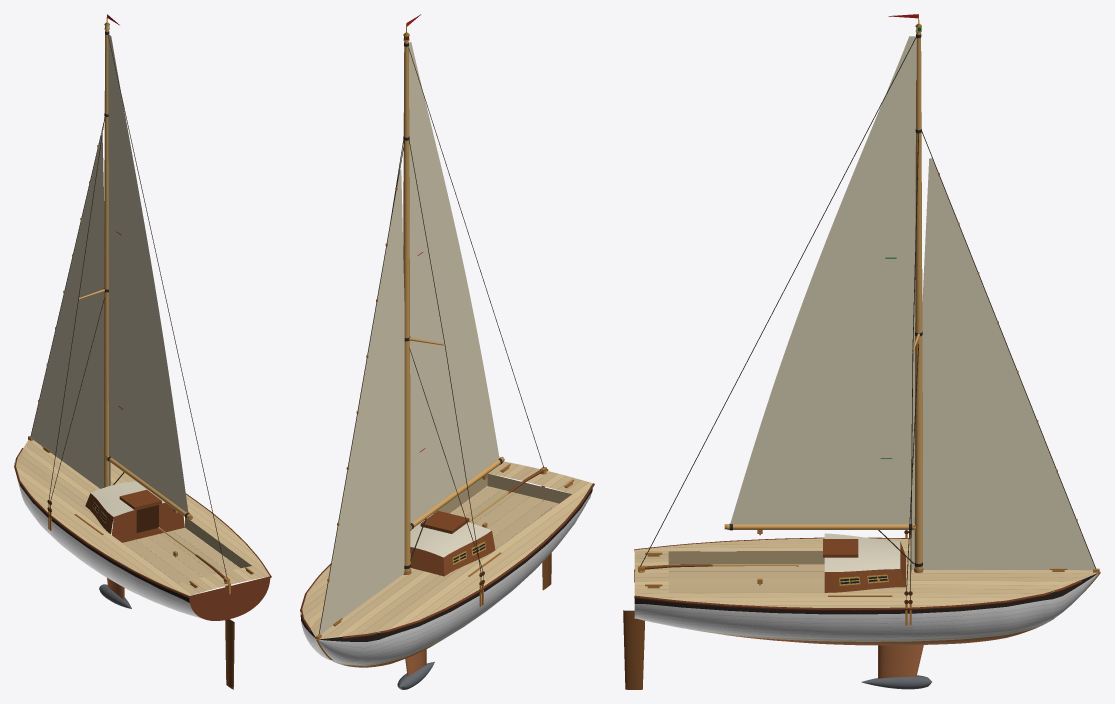
Rendered from keelboat.glb.
3 renders of one model, left to right at view 1: azimuth 30°, elevation 25°; view 2: azimuth 150°, elevation 25°; view 3: azimuth 270°, elevation 25°, orthographic. The views are drawn at different scales.
Parts seen in each view (by area): view 1: hull, sail, jib, mast, rudder, boom; view 2: hull, sail, jib, mast, boom, bulb; view 3: sail, hull, jib, mast, rudder, daggerboard, boom, bulb.
Part boxes in pixels (x1=…): hull: x1=14, y1=439, x2=271, y2=620; sail: x1=108, y1=34, x2=188, y2=513; jib: x1=31, y1=134, x2=110, y2=488; mast: x1=28, y1=30, x2=230, y2=594; rudder: x1=223, y1=577, x2=234, y2=689; boom: x1=106, y1=455, x2=192, y2=519; hull: x1=300, y1=461, x2=594, y2=667; sail: x1=408, y1=42, x2=499, y2=523; jib: x1=319, y1=169, x2=410, y2=634; mast: x1=316, y1=41, x2=548, y2=640; boom: x1=410, y1=456, x2=504, y2=530; bulb: x1=397, y1=661, x2=434, y2=689; sail: x1=730, y1=36, x2=915, y2=524; hull: x1=634, y1=533, x2=1100, y2=645; jib: x1=910, y1=158, x2=1095, y2=569; mast: x1=634, y1=32, x2=1099, y2=625; rudder: x1=623, y1=565, x2=644, y2=689; daggerboard: x1=878, y1=645, x2=923, y2=678; boom: x1=724, y1=524, x2=915, y2=530; bulb: x1=861, y1=675, x2=931, y2=689.
Size of the model in its own units: 2.5 by 11 by 7.05.
